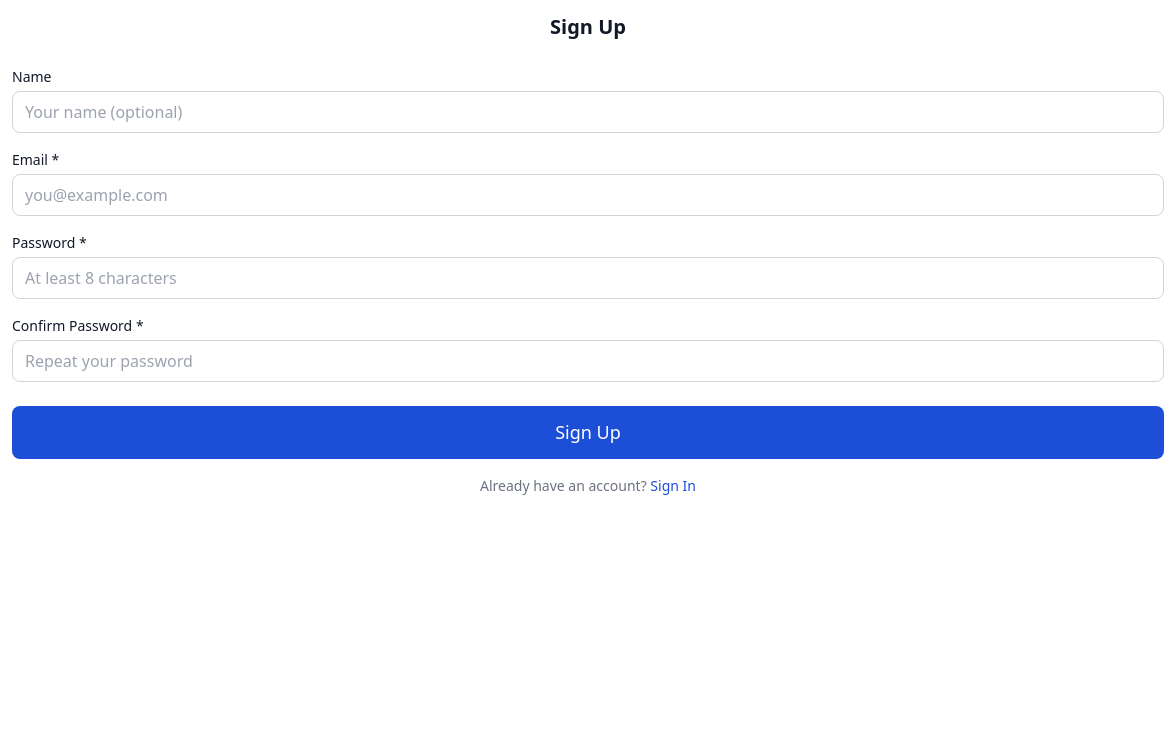
sign-up page › shows error when passwords do not match
The image size is (1176, 732).
Type "user@example.com" into the field with id "sign-up-email".
click(588, 195); type("user@example.com")  # box 12,174 -> 1164,216
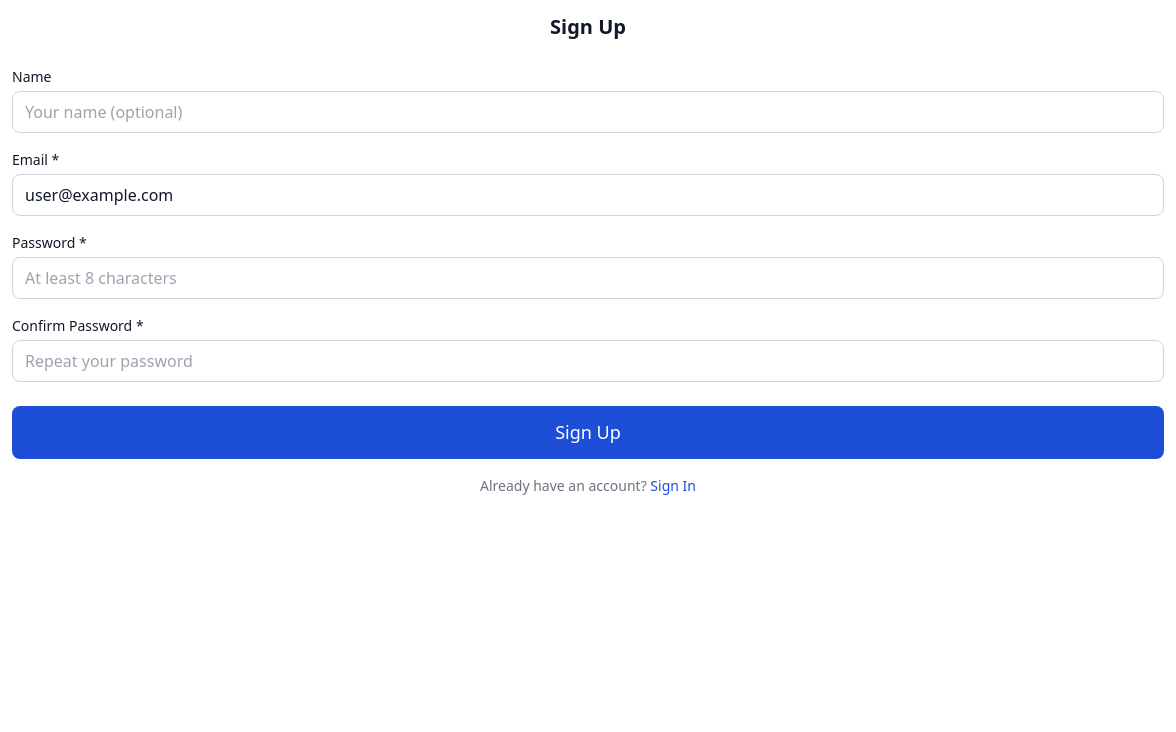
Type "password123" into the password field with id "sign-up-password".
click(588, 278); type("password123")  # box 12,257 -> 1164,299
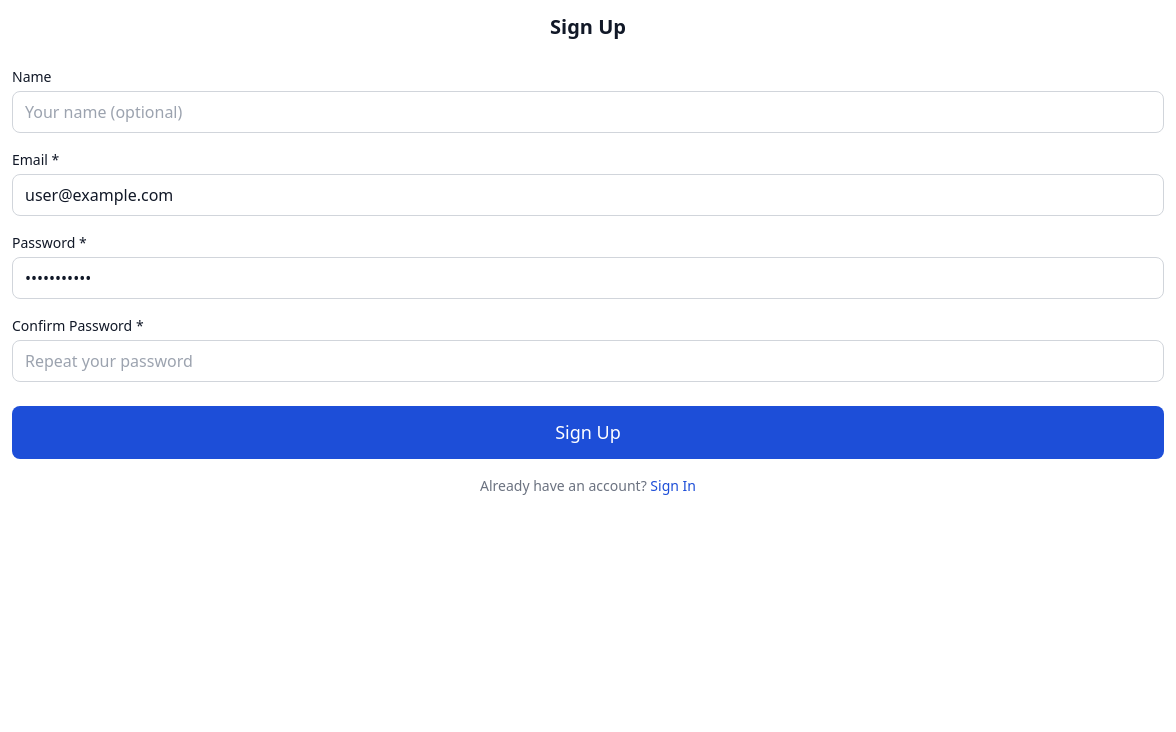
Type "different" into the password field with id "sign-up-confirm-password".
click(588, 361); type("different")  # box 12,340 -> 1164,382
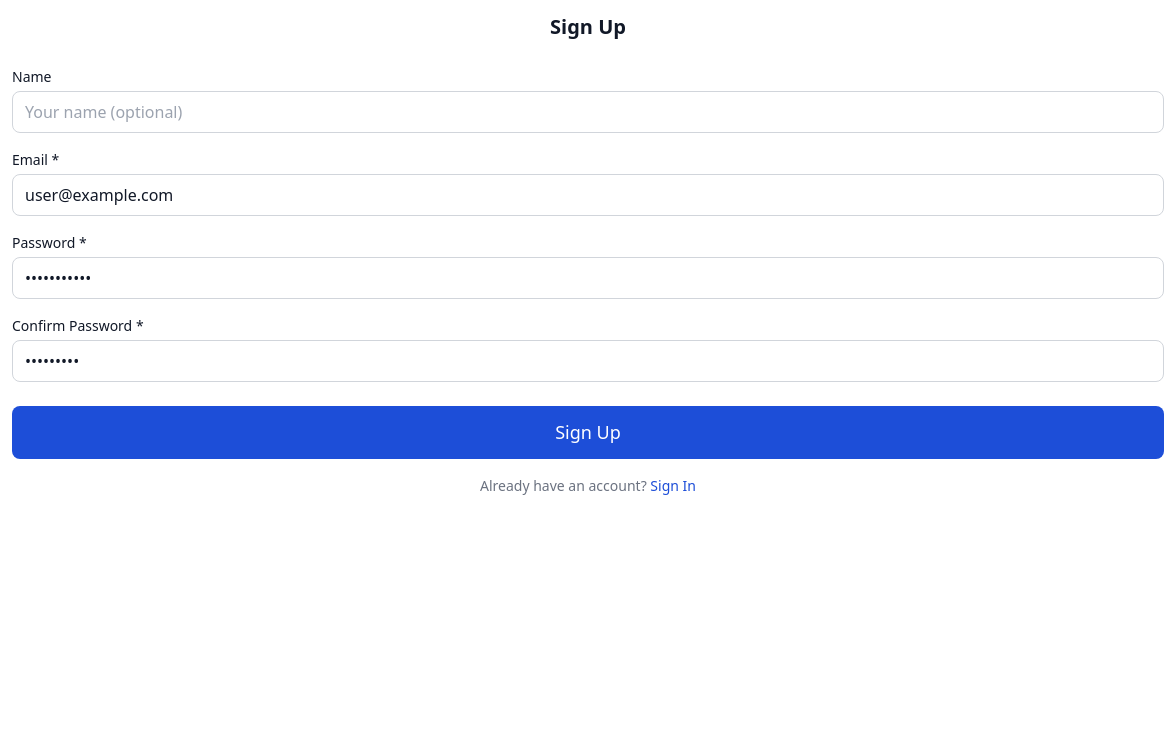
Submit the form, box 12,66 -> 1164,459
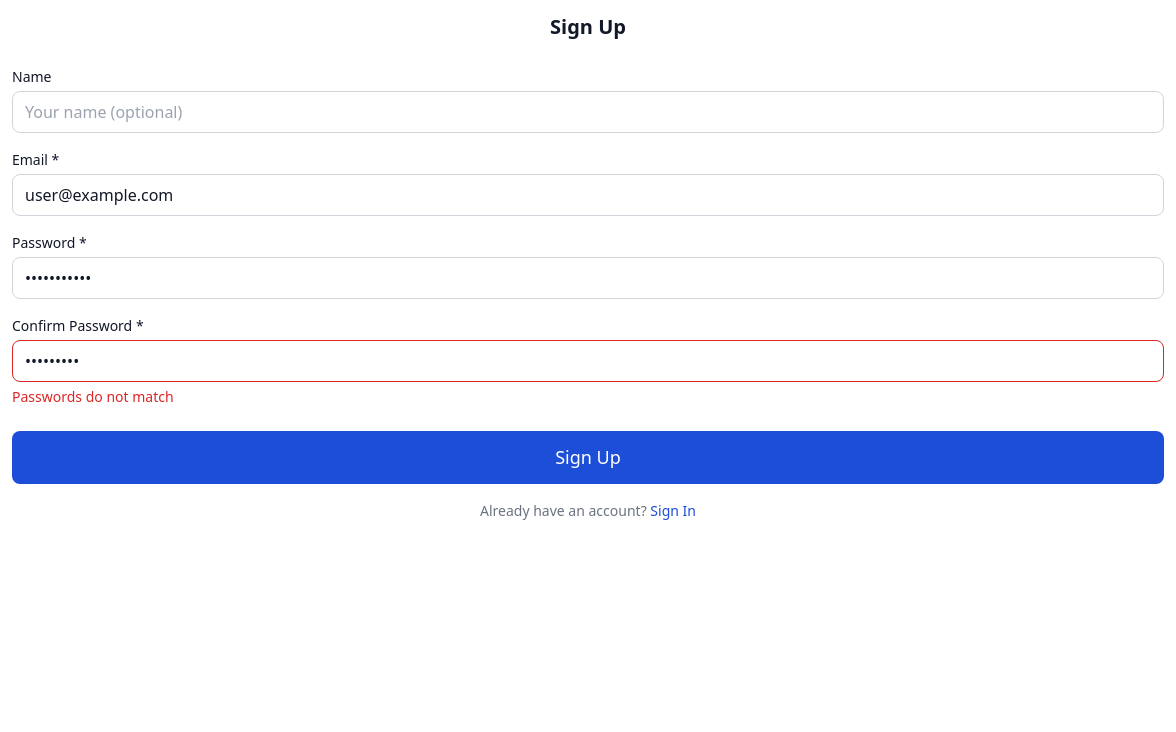
Expected: the text "Passwords do not match" is shown, 12,387 -> 174,406
